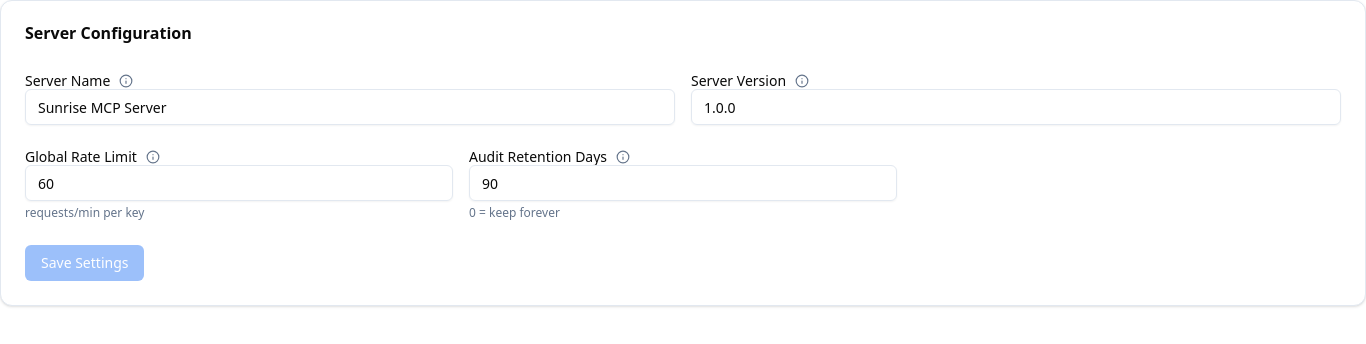
Test: McpSettingsForm validation and saved indicator › shows "serverName" error for invalid value : Required
This screenshot has width=1366, height=344.
Clear the field with id "serverName" at {"x": 350, "y": 107}, box [25,89,675,125]
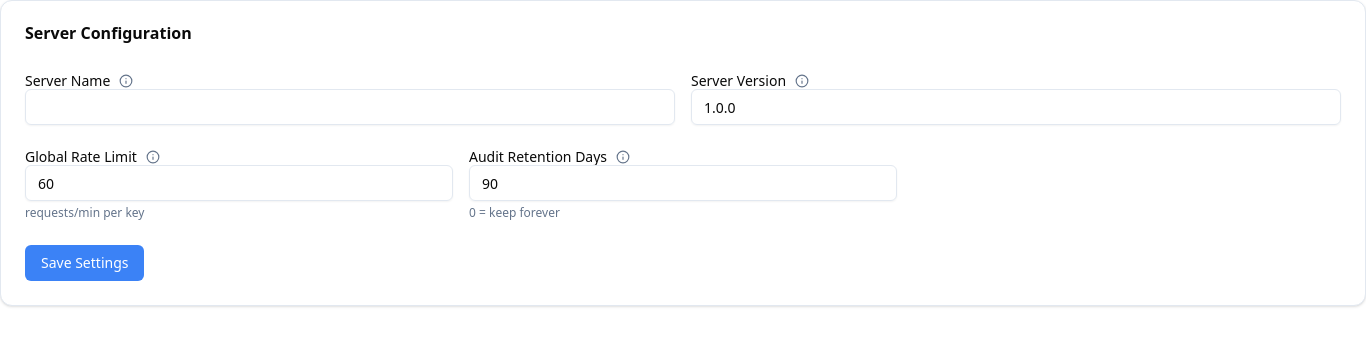
Submit the form named "save settings"
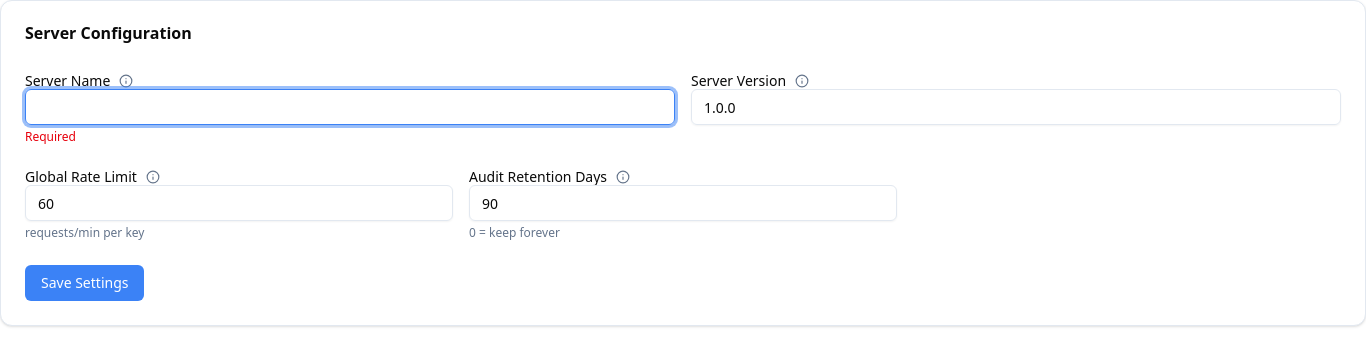
Result: the text "Required" is shown at [25,128,76,145]
